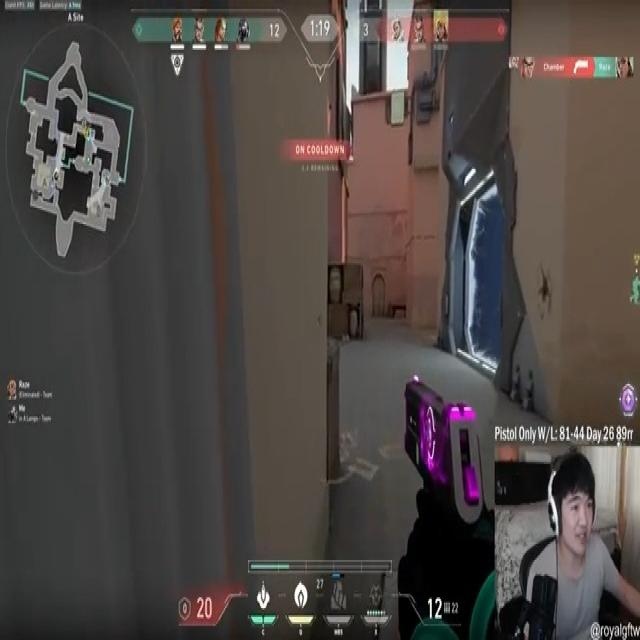ally behind wall: (629, 272, 640, 304)
